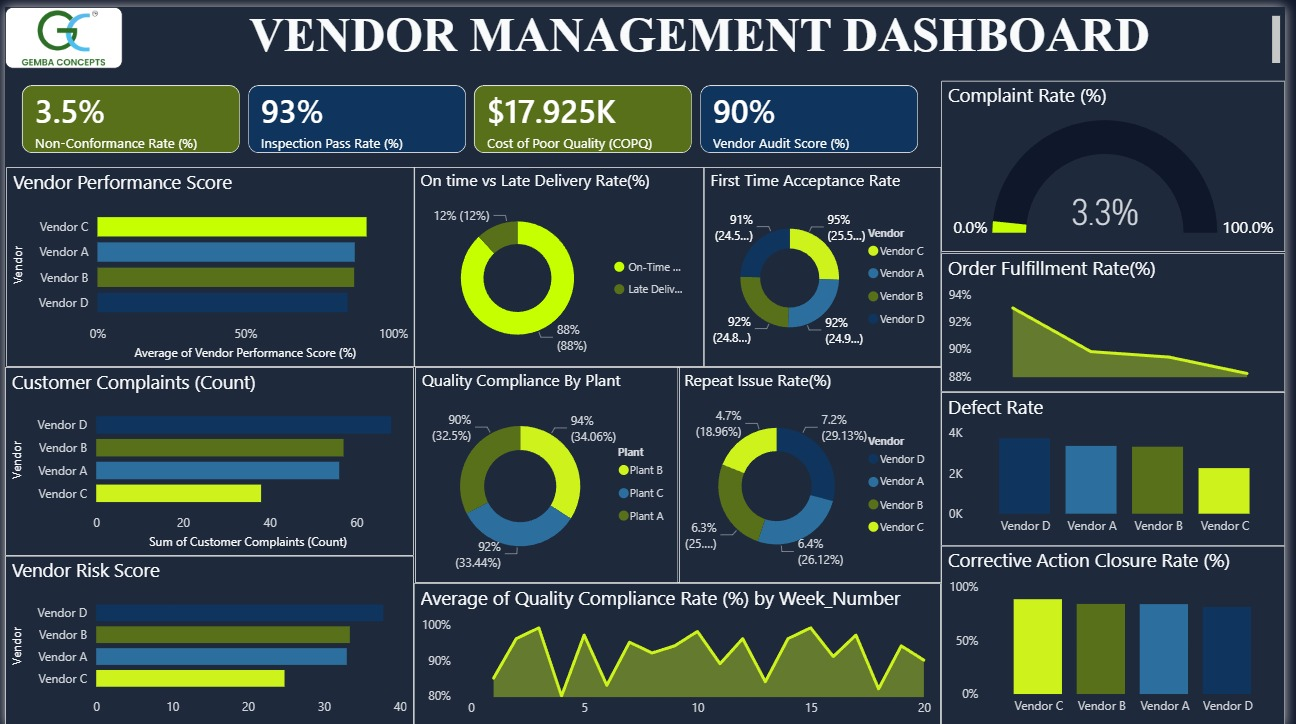

What the dashboard file says about the page in this screenshot:
{"tool":"powerbi","page":{"name":"Page 1","canvas":[1280,720],"ordinal":0},"visuals":[{"type":"barChart","title":"Vendor Performance Score","fields":{"Y":["Avg(Dashboard.Vendor Performance Score (%))"],"Category":["Dashboard.Vendor"]},"box":[1.2,160,408.8,200],"z":0},{"type":"barChart","title":" Vendor Risk Score ","fields":{"Category":["Dashboard.Vendor"],"Y":["Avg(Dashboard.Vendor Risk Score)"]},"box":[0,360.3,408.2,172.1],"z":1000},{"type":"areaChart","title":" Quality Compliance Rate (%) by Week","fields":{"Category":["Dashboard.Week_Number"],"Y":["Avg(Dashboard.Quality Compliance Rate (%))"]},"box":[408.9,575.6,526.9,144.6],"z":2000},{"type":"barChart","title":"Customer Complaints (Count) ","fields":{"Category":["Dashboard.Vendor"],"Y":["Sum(Dashboard.Customer Complaints (Count))"]},"box":[1.2,532.4,408.2,188.1],"z":3000},{"type":"donutChart","title":"On time vs Late Delivery Rate(%)","fields":{"Y":["Avg(Dashboard.On-Time Delivery Rate (%))","Avg(Dashboard.Late Delivery Rate (%))"]},"box":[408.8,160,290,200],"z":4000},{"type":"areaChart","title":"Order Fulfillment Rate(%)","fields":{"Category":["Dashboard.Vendor"],"Y":["Avg(Dashboard.Order Fulfillment Rate (%))"]},"box":[935.8,246.5,343.9,138.7],"z":5000},{"type":"clusteredColumnChart","title":"Defect Rate","fields":{"Category":["Dashboard.Vendor"],"Y":["Avg(Dashboard.Defect Rate (PPM))"]},"box":[935.8,385.2,343.9,153.5],"z":6000},{"type":"donutChart","title":"Repeat Issue Rate(%)","fields":{"Category":["Dashboard.Vendor"],"Y":["Avg(Dashboard.Repeat Issues Rate (%))"]},"box":[672.5,360,263.8,216.2],"z":7000},{"type":"clusteredColumnChart","title":"Corrective Action Closure Rate (%) ","fields":{"Y":["Avg(Dashboard.Corrective Action Closure Rate (%))"],"Category":["Dashboard.Vendor"]},"box":[935.8,538.7,343.9,180.1],"z":8000},{"type":"cardVisual","fields":{"Data":["Avg(Dashboard.Non-Conformance Rate (%))","Avg(Dashboard.Inspection Pass Rate (%))","Avg(Dashboard.Cost of Poor Quality (COPQ))","Avg(Dashboard.Vendor Audit Score (%))"]},"box":[1.2,61.2,935,102.5],"z":9000},{"type":"gauge","title":" Complaint Rate (%)","fields":{"Y":["Avg(Dashboard.Complaint Rate (%))"]},"box":[936.2,81.2,343.8,163.8],"z":10000},{"type":"donutChart","title":"Quality Compliance By Plant","fields":{"Category":["Dashboard.Plant"],"Y":["Avg(Dashboard.Quality Compliance Rate (%))"]},"box":[410,360,265,216.2],"z":11000},{"type":"donutChart","title":"First Time Acceptance Rate","fields":{"Category":["Dashboard.Vendor"],"Y":["Avg(Dashboard.First-Time Acceptance Rate (%))"]},"box":[698.8,160,237.5,200],"z":12000},{"type":"textbox","box":[117.5,0,1162.5,61.2],"z":13000},{"type":"image","box":[0,0,117.5,61.2],"z":14000}]}

Visuals, with their boxes in screenshot pixels (x1, y1, x2, y2), scaled from the page's 1280x720 canvas onto the 1296x724 screenshot:
"Vendor Performance Score" barChart: (x1=1, y1=161, x2=415, y2=362)
" Vendor Risk Score " barChart: (x1=0, y1=362, x2=413, y2=535)
" Quality Compliance Rate (%) by Week" areaChart: (x1=414, y1=579, x2=947, y2=723)
"Customer Complaints (Count) " barChart: (x1=1, y1=535, x2=415, y2=723)
"On time vs Late Delivery Rate(%)" donutChart: (x1=414, y1=161, x2=708, y2=362)
"Order Fulfillment Rate(%)" areaChart: (x1=947, y1=248, x2=1295, y2=387)
"Defect Rate" clusteredColumnChart: (x1=947, y1=387, x2=1295, y2=542)
"Repeat Issue Rate(%)" donutChart: (x1=681, y1=362, x2=948, y2=579)
"Corrective Action Closure Rate (%) " clusteredColumnChart: (x1=947, y1=542, x2=1295, y2=723)
cardVisual - Avg(Dashboard.Non-Conformance Rate (%)) x Avg(Dashboard.Inspection Pass Rate (%)): (x1=1, y1=62, x2=948, y2=165)
" Complaint Rate (%)" gauge: (x1=948, y1=82, x2=1295, y2=246)
"Quality Compliance By Plant" donutChart: (x1=415, y1=362, x2=683, y2=579)
"First Time Acceptance Rate" donutChart: (x1=708, y1=161, x2=948, y2=362)
textbox: (x1=119, y1=0, x2=1295, y2=62)
image: (x1=0, y1=0, x2=119, y2=62)
